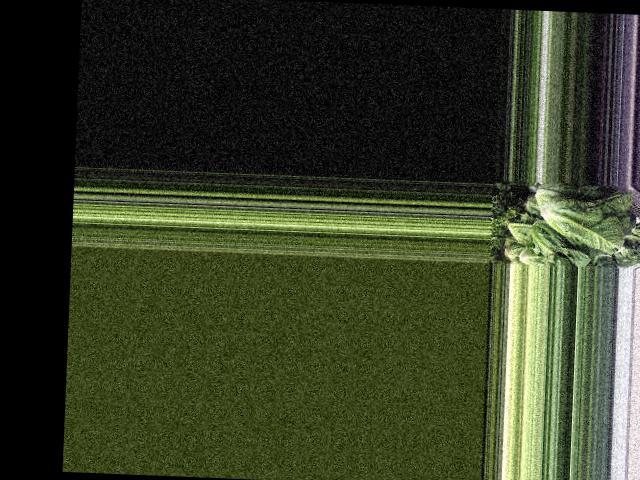lettuce: (527, 221, 594, 264)
